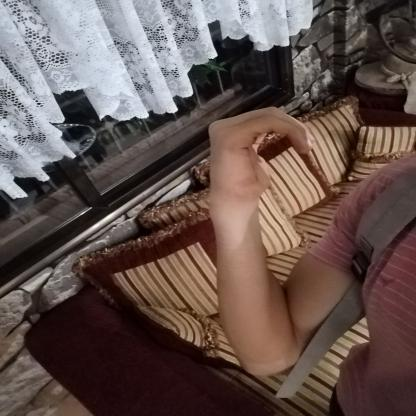HAA: (187, 97, 329, 214)
